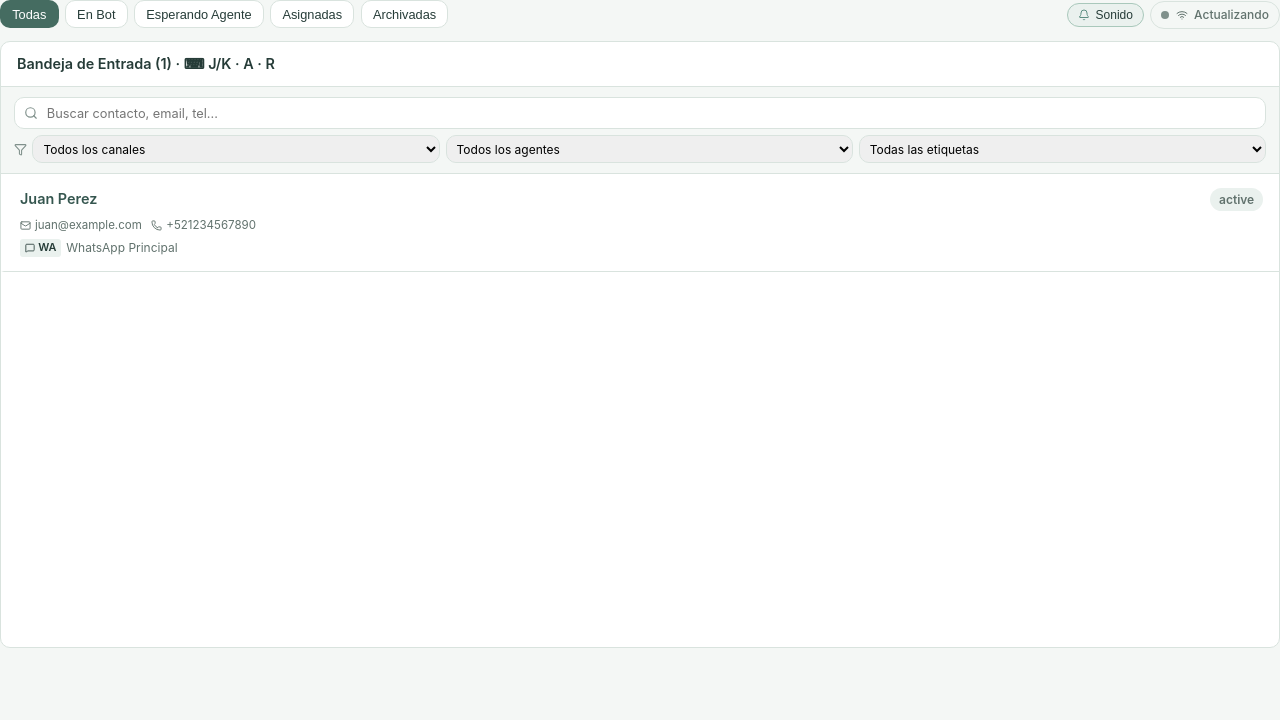
ConversationsView Responsive Behavior › alternates between conversation list and thread panel on mobile (<= 768px)
Note: Select conversation
What coordinates should you click on to do the following:
click the element with test id "conversation-item"
I would click on:
 (640, 223)
Its box is [1,174,1279,272].
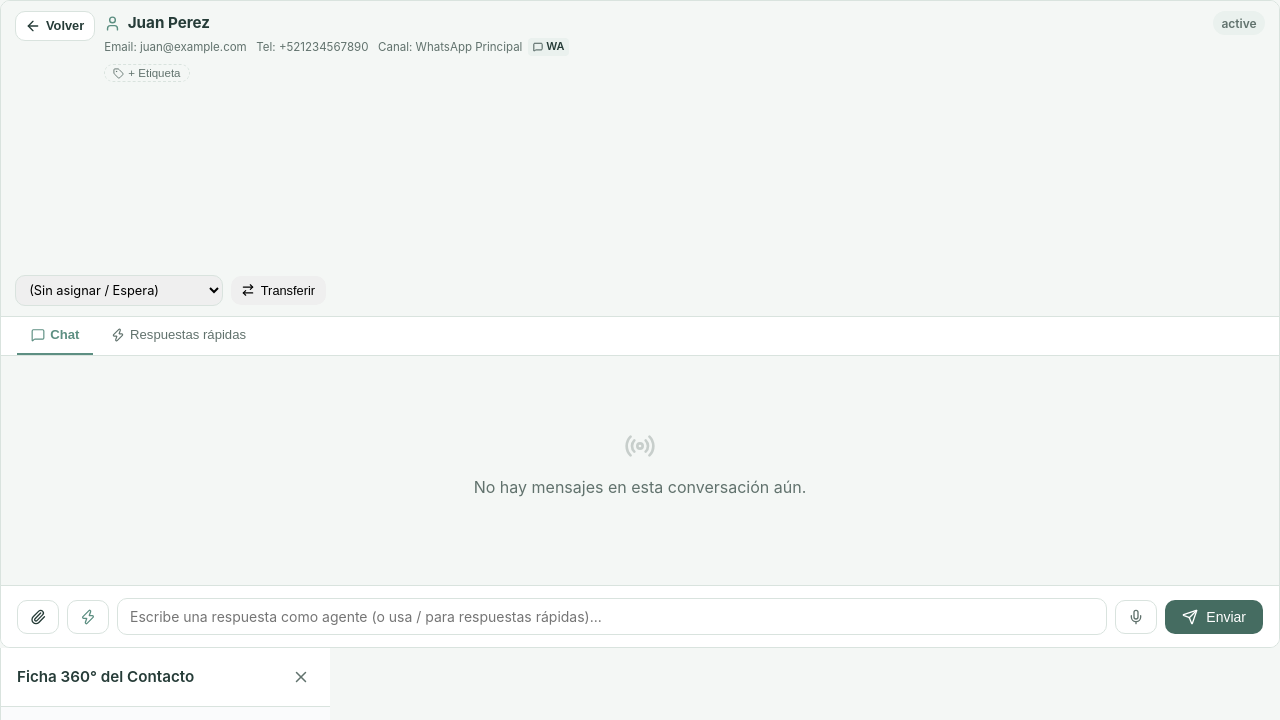
Expected: the element with test id "inbox-thread-panel" is shown
Expected: the button with test id "back-to-inbox-btn" is shown
Expected: the element with test id "inbox-conversation-list-panel" is gone
Note: Click back button: returns to conversation list
What coordinates should you click on to do the following:
click the button with test id "back-to-inbox-btn"
I would click on:
 (55, 26)
Its box is [15,11,95,41].
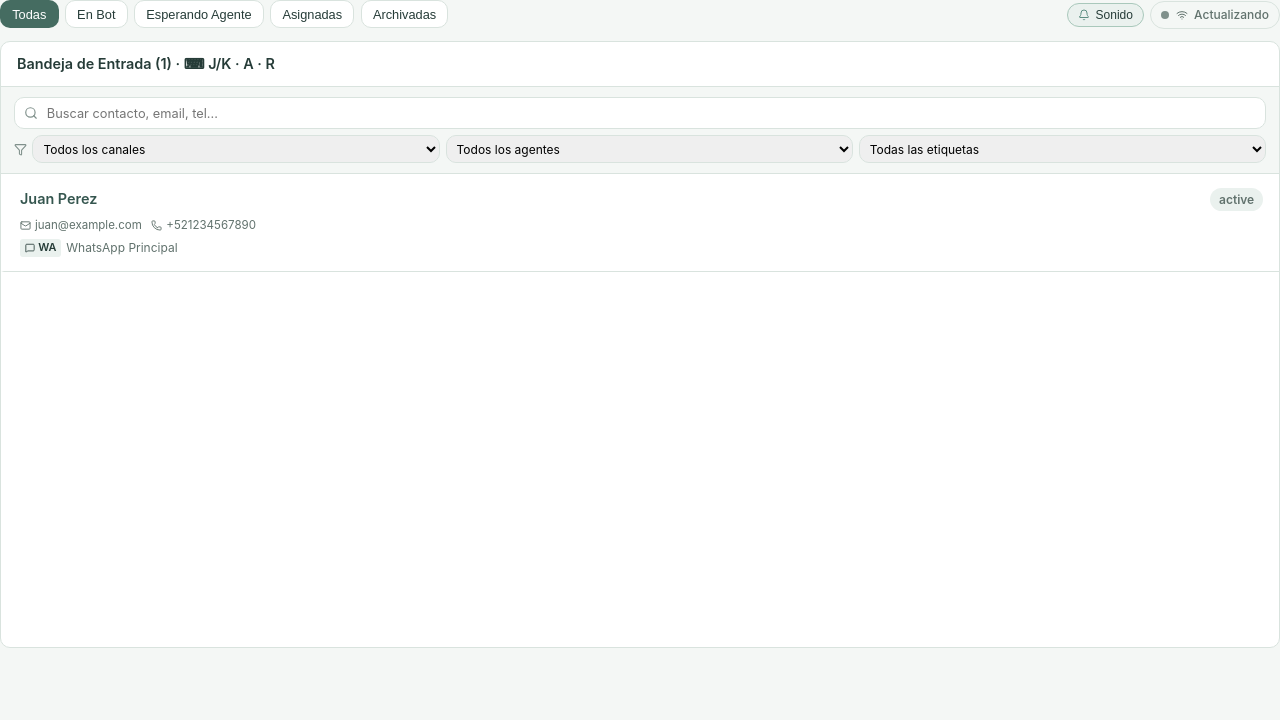
Expected: the element with test id "inbox-conversation-list-panel" is shown
Expected: the element with test id "inbox-thread-panel" is gone
